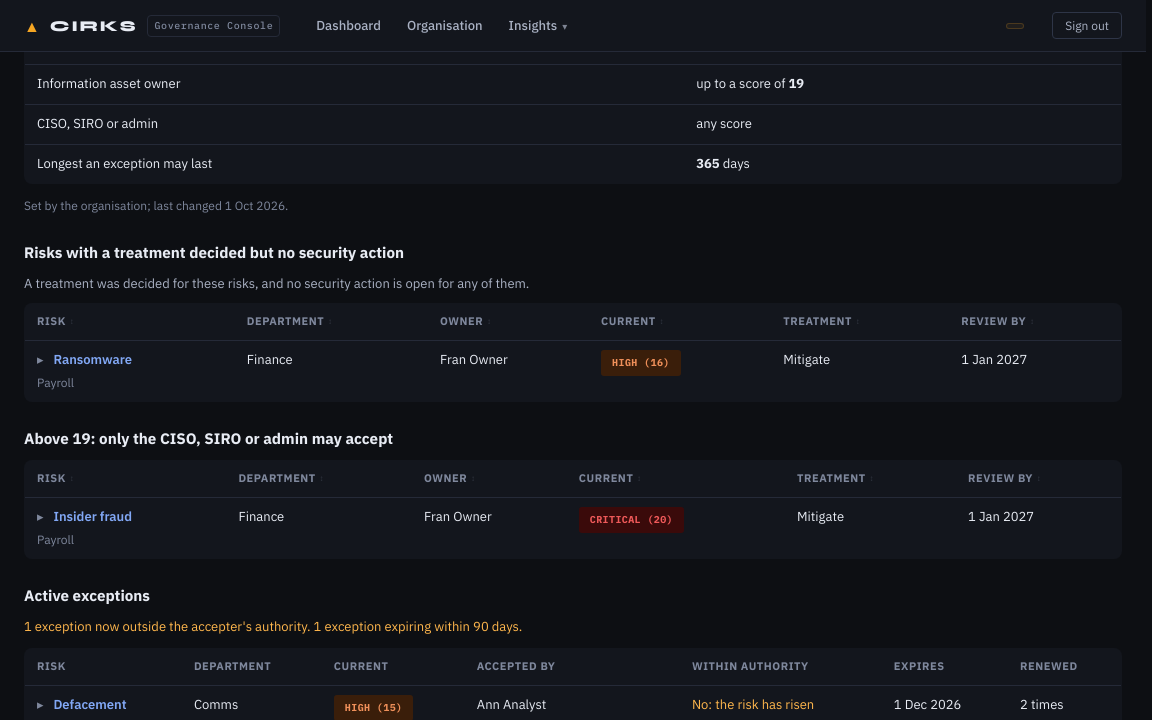
SIRO report › lists the risks decided with nothing carrying them out, each unfolding its answer
The image size is (1152, 720).
(page scrolled)
Click the button "▸ Ransomware" at (85, 360), box [37,350,132,371]
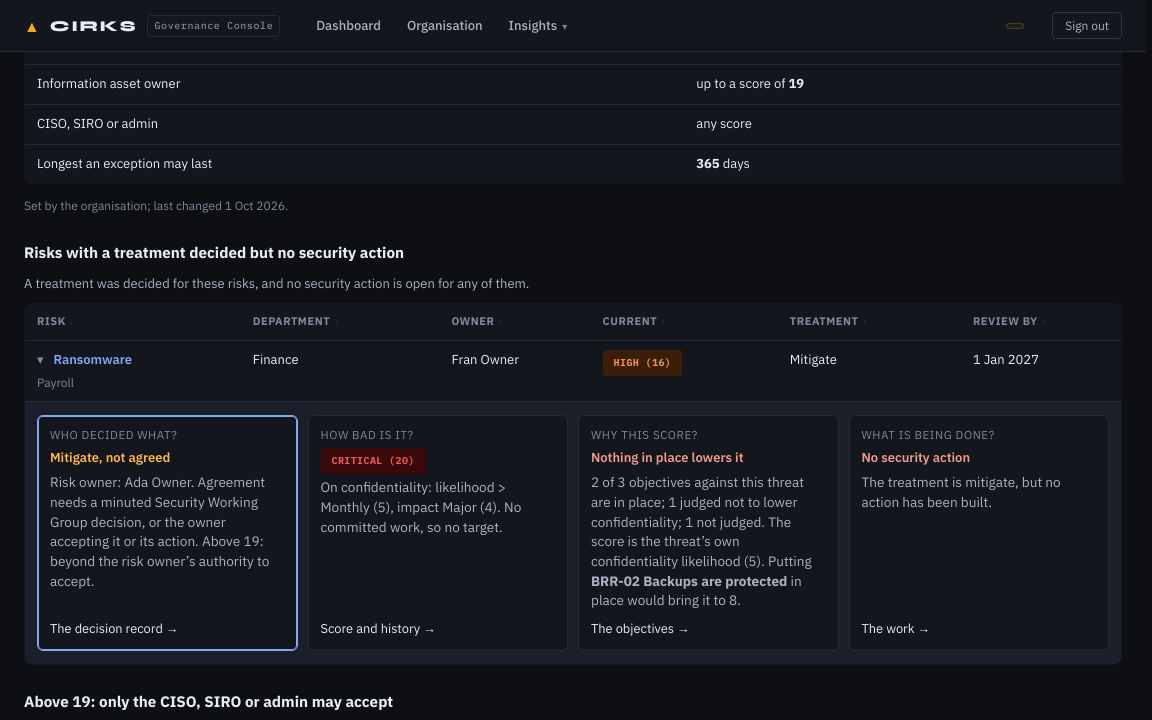
Expected: the text "Mitigate, not agreed" is shown, [50,450,170,466]
Expected: the link with id "decision" is shown, [50,620,179,637]
